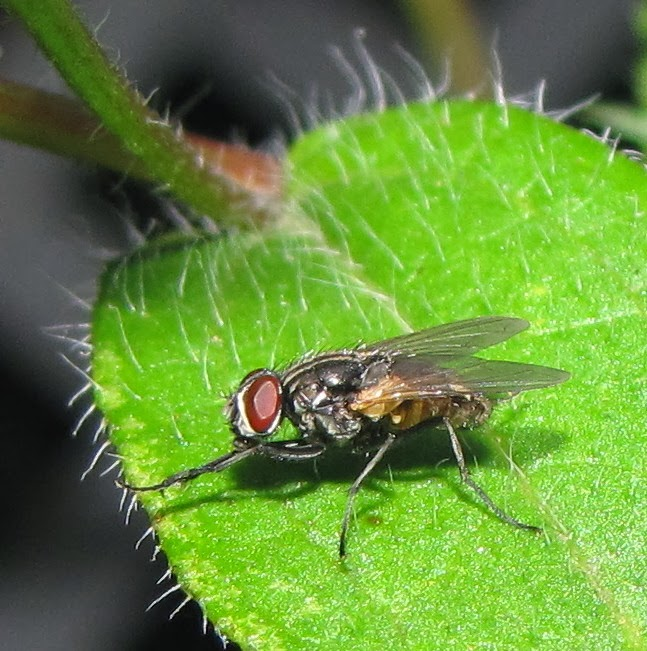fly: (110, 317, 575, 570)
